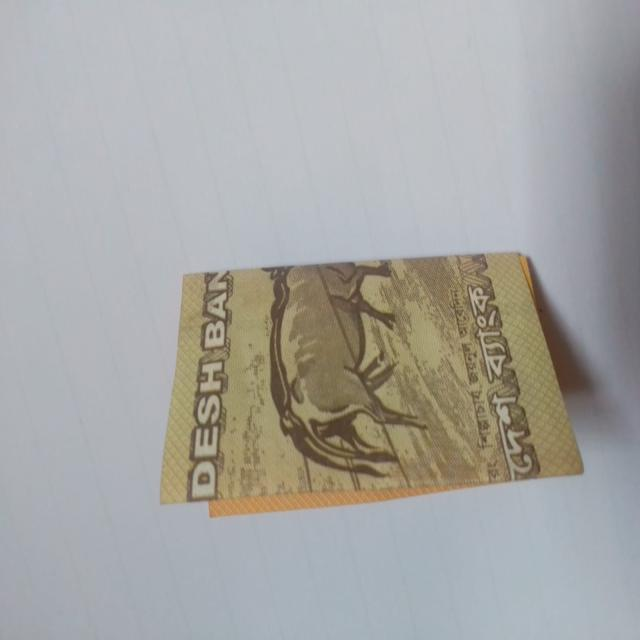Taka: (162, 254, 597, 507)
